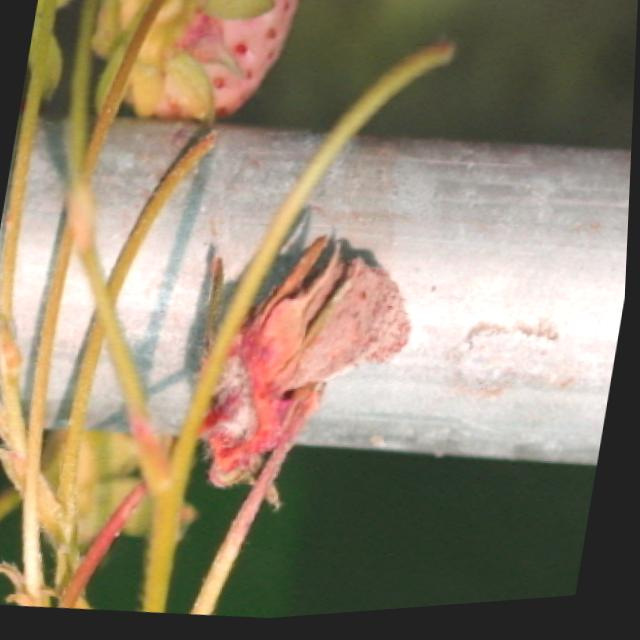Gray Mold: (193, 240, 414, 489)
